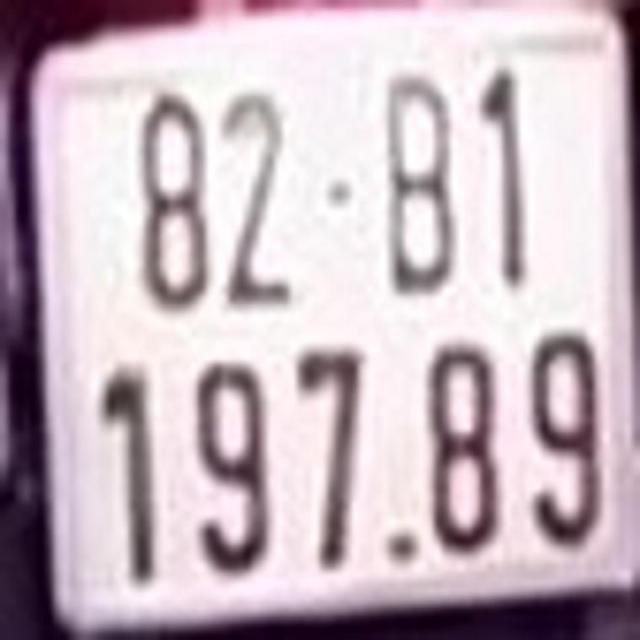1: (97, 358, 165, 580), (471, 56, 534, 286)
2: (218, 83, 296, 304)
7: (290, 341, 370, 568)
8: (132, 88, 214, 314), (421, 331, 503, 552)
9: (188, 354, 270, 577), (524, 324, 602, 551)
B: (380, 63, 460, 299)
